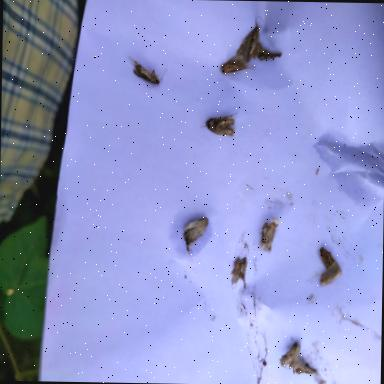pbw: (237, 16, 266, 65), (127, 57, 169, 88), (201, 111, 238, 138), (278, 340, 302, 374), (182, 216, 210, 244), (220, 57, 257, 76), (319, 261, 342, 288), (318, 247, 334, 272)
